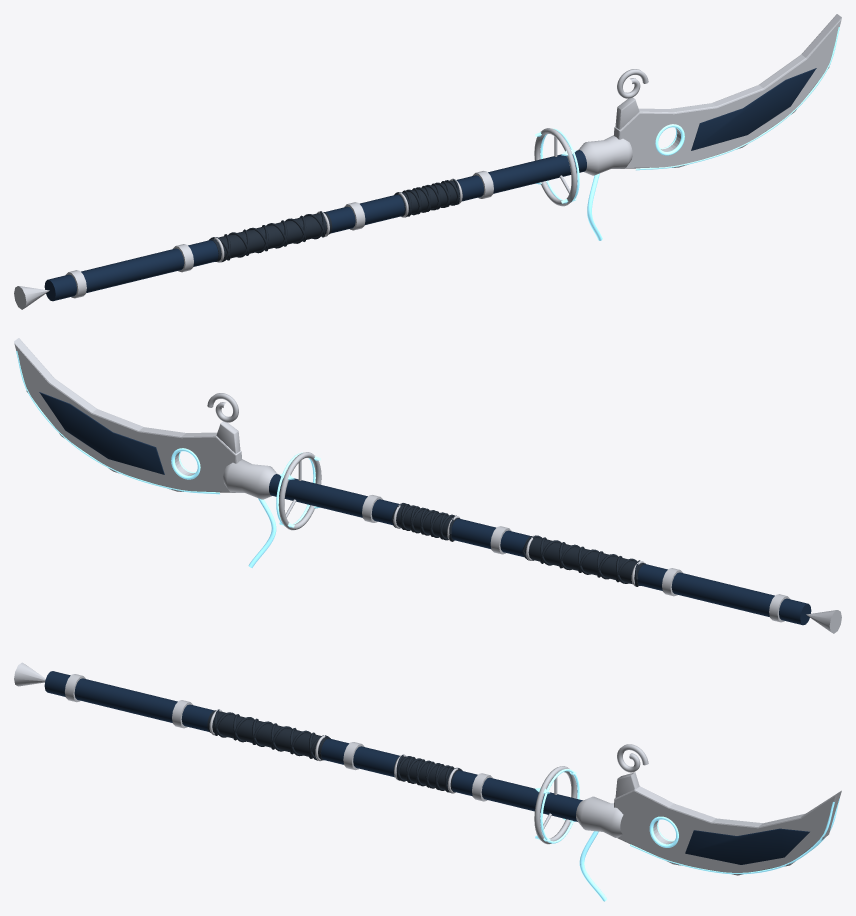
File: tide-moon.glb
3 renders of one model, top to bottom at view 1: azimuth 30°, elevation 25°; view 2: azimuth 150°, elevation 25°; view 3: azimuth 330°, elevation 25°, orthographic.
Visible parts, largest first — view 1: 07_Meteor_Polearm__body_Sculpt_metal, 07_Meteor_Polearm__body_Sculpt_coat, 07_Meteor_Polearm__body_Sculpt_grip, 07_Meteor_Polearm__body_Sculpt_glow, 07_Meteor_Polearm__halo_Sculpt_metal; view 2: 07_Meteor_Polearm__body_Sculpt_metal, 07_Meteor_Polearm__body_Sculpt_coat, 07_Meteor_Polearm__body_Sculpt_grip, 07_Meteor_Polearm__body_Sculpt_glow, 07_Meteor_Polearm__halo_Sculpt_metal; view 3: 07_Meteor_Polearm__body_Sculpt_metal, 07_Meteor_Polearm__body_Sculpt_coat, 07_Meteor_Polearm__body_Sculpt_grip, 07_Meteor_Polearm__body_Sculpt_glow, 07_Meteor_Polearm__halo_Sculpt_metal, 07_Meteor_Polearm__halo_Sculpt_glow.
Boxes of the visible parts, x1,y1,x2,y2 form: 07_Meteor_Polearm__body_Sculpt_metal: (14, 14, 841, 309); 07_Meteor_Polearm__body_Sculpt_coat: (44, 68, 816, 301); 07_Meteor_Polearm__body_Sculpt_grip: (209, 179, 462, 262); 07_Meteor_Polearm__body_Sculpt_glow: (587, 27, 839, 240); 07_Meteor_Polearm__halo_Sculpt_metal: (534, 128, 577, 206); 07_Meteor_Polearm__body_Sculpt_metal: (14, 338, 841, 633); 07_Meteor_Polearm__body_Sculpt_coat: (39, 392, 811, 625); 07_Meteor_Polearm__body_Sculpt_grip: (391, 503, 645, 586); 07_Meteor_Polearm__body_Sculpt_glow: (16, 351, 276, 567); 07_Meteor_Polearm__halo_Sculpt_metal: (278, 452, 321, 530); 07_Meteor_Polearm__body_Sculpt_metal: (14, 662, 841, 875); 07_Meteor_Polearm__body_Sculpt_coat: (44, 671, 809, 864); 07_Meteor_Polearm__body_Sculpt_grip: (207, 709, 462, 792); 07_Meteor_Polearm__body_Sculpt_glow: (579, 798, 839, 901); 07_Meteor_Polearm__halo_Sculpt_metal: (534, 766, 577, 844); 07_Meteor_Polearm__halo_Sculpt_glow: (535, 769, 579, 843).
Bounding box in the file's own units: 3.82 × 0.7522 × 0.324.
